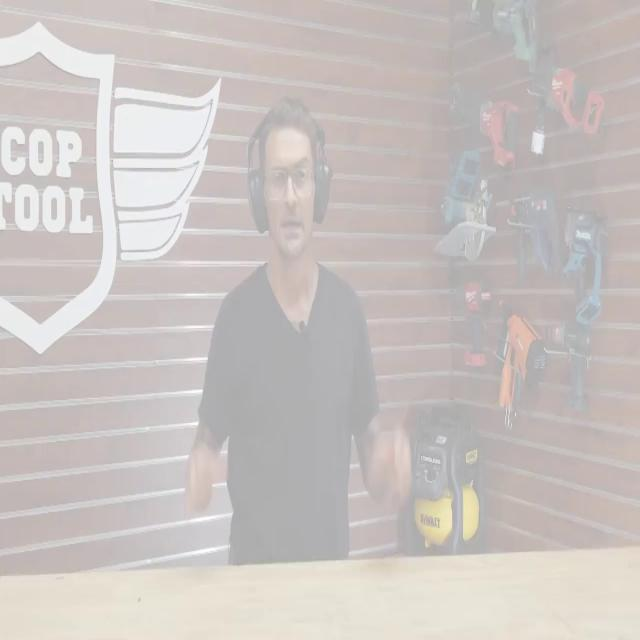earmuff: (243, 164, 270, 238), (310, 157, 334, 231)
glasses: (261, 154, 317, 208)
